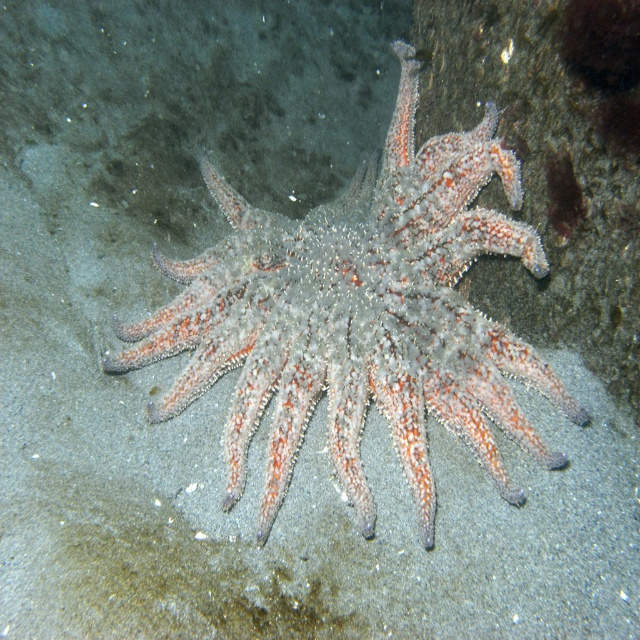Starfish: (101, 36, 592, 553)
